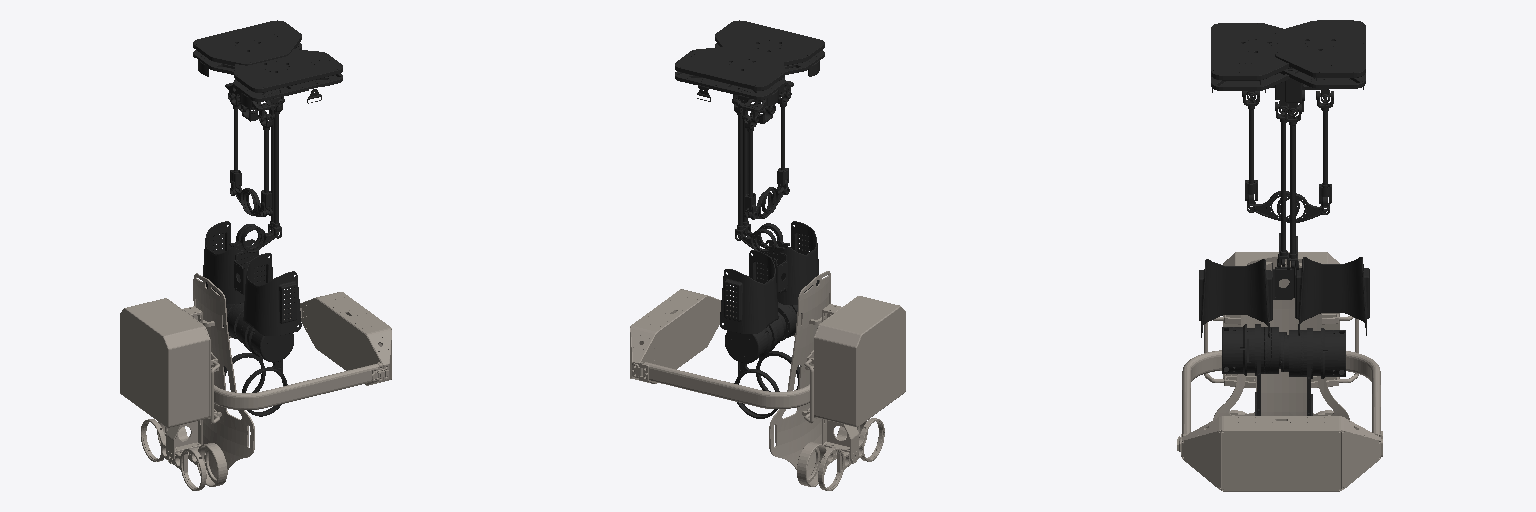
robot.urdf — lm:
<?xml version="1.0" encoding="utf-8"?>
<!-- This URDF was automatically created by SolidWorks to URDF Exporter! Originally created by [author] ([email redacted]) 
     Commit Version: 1.6.0-4-g7f85cfe  Build Version: 1.6.7995.38578
     For more information, please see http://wiki.ros.org/sw_urdf_exporter -->
<robot
  name="lm">
  <link
    name="base_link">
    <inertial>
      <origin
        xyz="-0.0847836403101362 0.016124068276873 1.17982651333941"
        rpy="0 0 0" />
      <mass
        value="8.8763411146804" />
      <inertia
        ixx="0.101488545979813"
        ixy="-0.00645799423628229"
        ixz="-0.000193628859141176"
        iyy="0.110557558643183"
        iyz="1.19373146939592E-07"
        izz="0.124437695624475" />
    </inertial>
    <visual>
      <origin
        xyz="0 0 0"
        rpy="0 0 0" />
      <geometry>
        <mesh
          filename="../meshes/base_link.STL" />
      </geometry>
      <material
        name="">
        <color
          rgba="0.647058823529412 0.619607843137255 0.588235294117647 1" />
      </material>
    </visual>
    <collision>
      <origin
        xyz="0 0 0"
        rpy="0 0 0" />
      <geometry>
        <mesh
          filename="../meshes/base_link.STL" />
      </geometry>
    </collision>
  </link>
  <link
    name="R1">
    <inertial>
      <origin
        xyz="-0.00590581604235663 -0.000378342657516517 -0.097190821686626"
        rpy="0 0 0" />
      <mass
        value="2.20759710695519" />
      <inertia
        ixx="0.00328368912648769"
        ixy="4.60300383770932E-06"
        ixz="-4.9557633533897E-05"
        iyy="0.00312841784055403"
        iyz="-3.11500954921368E-06"
        izz="0.00447804903564169" />
    </inertial>
    <visual>
      <origin
        xyz="0 0 0"
        rpy="0 0 0" />
      <geometry>
        <mesh
          filename="../meshes/R1.STL" />
      </geometry>
      <material
        name="">
        <color
          rgba="0.792156862745098 0.819607843137255 0.933333333333333 1" />
      </material>
    </visual>
    <collision>
      <origin
        xyz="0 0 0"
        rpy="0 0 0" />
      <geometry>
        <mesh
          filename="../meshes/R1.STL" />
      </geometry>
    </collision>
  </link>
  <joint
    name="r1"
    type="revolute">
    <origin
      xyz="-0.22474 -0.109 0.97992"
      rpy="0 1.5708 0" />
    <parent
      link="base_link" />
    <child
      link="R1" />
    <axis
      xyz="0 0 -1" />
    <limit
      lower="0"
      upper="0"
      effort="0"
      velocity="0" />
  </joint>
  <link
    name="R2">
    <inertial>
      <origin
        xyz="0.254569564032238 -0.139139525424893 -0.0687849629864661"
        rpy="0 0 0" />
      <mass
        value="3.19974792524518" />
      <inertia
        ixx="0.00480141067289401"
        ixy="0.000202464951920159"
        ixz="-1.3363010815288E-06"
        iyy="0.00724706562246883"
        iyz="-1.03783460509467E-05"
        izz="0.00754290013579256" />
    </inertial>
    <visual>
      <origin
        xyz="0 0 0"
        rpy="0 0 0" />
      <geometry>
        <mesh
          filename="../meshes/R2.STL" />
      </geometry>
      <material
        name="">
        <color
          rgba="0.203921568627451 0.203921568627451 0.203921568627451 1" />
      </material>
    </visual>
    <collision>
      <origin
        xyz="0 0 0"
        rpy="0 0 0" />
      <geometry>
        <mesh
          filename="../meshes/R2.STL" />
      </geometry>
    </collision>
  </link>
  <joint
    name="r2"
    type="revolute">
    <origin
      xyz="-0.074 0.004 -0.18726"
      rpy="3.1416 -1.5708 0" />
    <parent
      link="R1" />
    <child
      link="R2" />
    <axis
      xyz="0 0 -1" />
    <limit
      lower="0"
      upper="0"
      effort="0"
      velocity="0" />
  </joint>
  <link
    name="R3">
    <inertial>
      <origin
        xyz="-0.00428821051056383 -0.210045840770069 0.0243375068234463"
        rpy="0 0 0" />
      <mass
        value="1.55569553643649" />
      <inertia
        ixx="0.00470363819858225"
        ixy="5.6465625109145E-05"
        ixz="4.81096129758057E-05"
        iyy="0.00288796096558704"
        iyz="5.66863342194461E-06"
        izz="0.00529102208272787" />
    </inertial>
    <visual>
      <origin
        xyz="0 0 0"
        rpy="0 0 0" />
      <geometry>
        <mesh
          filename="../meshes/R3.STL" />
      </geometry>
      <material
        name="">
        <color
          rgba="0.203921568627451 0.203921568627451 0.203921568627451 1" />
      </material>
    </visual>
    <collision>
      <origin
        xyz="0 0 0"
        rpy="0 0 0" />
      <geometry>
        <mesh
          filename="../meshes/R3.STL" />
      </geometry>
    </collision>
  </link>
  <joint
    name="r3"
    type="revolute">
    <origin
      xyz="0.35806 -0.1057 -0.073552"
      rpy="1.5708 0 0" />
    <parent
      link="R2" />
    <child
      link="R3" />
    <axis
      xyz="0 0 1" />
    <limit
      lower="0"
      upper="0"
      effort="0"
      velocity="0" />
  </joint>
  <link
    name="R4">
    <inertial>
      <origin
        xyz="-0.00253089741190857 -0.327230467236538 0.043639443195158"
        rpy="0 0 0" />
      <mass
        value="2.71063429202877" />
      <inertia
        ixx="0.0203006815060119"
        ixy="-7.65976536605899E-05"
        ixz="3.6570950367569E-06"
        iyy="0.00327761584360402"
        iyz="0.000858028173816396"
        izz="0.0208829866242641" />
    </inertial>
    <visual>
      <origin
        xyz="0 0 0"
        rpy="0 0 0" />
      <geometry>
        <mesh
          filename="../meshes/R4.STL" />
      </geometry>
      <material
        name="">
        <color
          rgba="0.203921568627451 0.203921568627451 0.203921568627451 1" />
      </material>
    </visual>
    <collision>
      <origin
        xyz="0 0 0"
        rpy="0 0 0" />
      <geometry>
        <mesh
          filename="../meshes/R4.STL" />
      </geometry>
    </collision>
  </link>
  <joint
    name="r4"
    type="revolute">
    <origin
      xyz="-5.9136E-05 -0.18045 -0.0007"
      rpy="0 0 0" />
    <parent
      link="R3" />
    <child
      link="R4" />
    <axis
      xyz="0 0 1" />
    <limit
      lower="0"
      upper="0"
      effort="0"
      velocity="0" />
  </joint>
  <link
    name="R5">
    <inertial>
      <origin
        xyz="0.0404638830644892 -0.474230645005131 -0.0649480168515433"
        rpy="0 0 0" />
      <mass
        value="2.75166045965853" />
      <inertia
        ixx="0.0082226290270967"
        ixy="5.18405335157691E-05"
        ixz="0.000564288002547797"
        iyy="0.0184077002147554"
        iyz="-0.000106838645361955"
        izz="0.0129901003870485" />
    </inertial>
    <visual>
      <origin
        xyz="0 0 0"
        rpy="0 0 0" />
      <geometry>
        <mesh
          filename="../meshes/R5.STL" />
      </geometry>
      <material
        name="">
        <color
          rgba="0.203921568627451 0.203921568627451 0.203921568627451 1" />
      </material>
    </visual>
    <collision>
      <origin
        xyz="0 0 0"
        rpy="0 0 0" />
      <geometry>
        <mesh
          filename="../meshes/R5.STL" />
      </geometry>
    </collision>
  </link>
  <joint
    name="r5"
    type="revolute">
    <origin
      xyz="0 -0.259 0.0305"
      rpy="0 0 0" />
    <parent
      link="R4" />
    <child
      link="R5" />
    <axis
      xyz="0 0 1" />
    <limit
      lower="0"
      upper="0"
      effort="0"
      velocity="0" />
  </joint>
  <link
    name="R6">
    <inertial>
      <origin
        xyz="0.375757481556579 0.0588554601624295 0.0438139222015952"
        rpy="0 0 0" />
      <mass
        value="2.58090518554817" />
      <inertia
        ixx="0.0183265248457102"
        ixy="-0.000110484792807963"
        ixz="-5.18717858368646E-05"
        iyy="0.0121030694998444"
        iyz="-0.000563756385645892"
        izz="0.00747330629979318" />
    </inertial>
    <visual>
      <origin
        xyz="0 0 0"
        rpy="0 0 0" />
      <geometry>
        <mesh
          filename="../meshes/R6.STL" />
      </geometry>
      <material
        name="">
        <color
          rgba="0.203921568627451 0.203921568627451 0.203921568627451 1" />
      </material>
    </visual>
    <collision>
      <origin
        xyz="0 0 0"
        rpy="0 0 0" />
      <geometry>
        <mesh
          filename="../meshes/R6.STL" />
      </geometry>
    </collision>
  </link>
  <joint
    name="r6"
    type="revolute">
    <origin
      xyz="-0.0065 -0.37 0.0265"
      rpy="-1.5708 0 -1.5708" />
    <parent
      link="R4" />
    <child
      link="R6" />
    <axis
      xyz="0 0 -1" />
    <limit
      lower="0"
      upper="0"
      effort="0"
      velocity="0" />
  </joint>
  <link
    name="L1">
    <inertial>
      <origin
        xyz="0.00170500096238241 0.00382865112779629 -0.0951911325548635"
        rpy="0 0 0" />
      <mass
        value="2.17590643154051" />
      <inertia
        ixx="0.00305958752681306"
        ixy="5.51812772520468E-06"
        ixz="1.58394359645374E-08"
        iyy="0.00324420531255781"
        iyz="4.3000071606271E-05"
        izz="0.00453169312925124" />
    </inertial>
    <visual>
      <origin
        xyz="0 0 0"
        rpy="0 0 0" />
      <geometry>
        <mesh
          filename="../meshes/L1.STL" />
      </geometry>
      <material
        name="">
        <color
          rgba="0.792156862745098 0.819607843137255 0.933333333333333 1" />
      </material>
    </visual>
    <collision>
      <origin
        xyz="0 0 0"
        rpy="0 0 0" />
      <geometry>
        <mesh
          filename="../meshes/L1.STL" />
      </geometry>
    </collision>
  </link>
  <joint
    name="l1"
    type="revolute">
    <origin
      xyz="-0.22474 0.109 0.97992"
      rpy="1.5708 -0.0015844 1.5708" />
    <parent
      link="base_link" />
    <child
      link="L1" />
    <axis
      xyz="0 0 -1" />
    <limit
      lower="0"
      upper="0"
      effort="0"
      velocity="0" />
  </joint>
  <link
    name="L2">
    <inertial>
      <origin
        xyz="0.259193507971265 0.133299943743941 -0.0669963392806916"
        rpy="0 0 0" />
      <mass
        value="3.78127467125214" />
      <inertia
        ixx="0.00543046311466206"
        ixy="-0.000195237434217157"
        ixz="-1.35424363742605E-08"
        iyy="0.00846639037217728"
        iyz="7.2873819518859E-06"
        izz="0.00816753271384224" />
    </inertial>
    <visual>
      <origin
        xyz="0 0 0"
        rpy="0 0 0" />
      <geometry>
        <mesh
          filename="../meshes/L2.STL" />
      </geometry>
      <material
        name="">
        <color
          rgba="0.203921568627451 0.203921568627451 0.203921568627451 1" />
      </material>
    </visual>
    <collision>
      <origin
        xyz="0 0 0"
        rpy="0 0 0" />
      <geometry>
        <mesh
          filename="../meshes/L2.STL" />
      </geometry>
    </collision>
  </link>
  <joint
    name="l2"
    type="revolute">
    <origin
      xyz="0.0021212 0.076497 -0.18726"
      rpy="1.5692 -1.5708 0" />
    <parent
      link="L1" />
    <child
      link="L2" />
    <axis
      xyz="0 0 -1" />
    <limit
      lower="0"
      upper="0"
      effort="0"
      velocity="0" />
  </joint>
  <link
    name="L3">
    <inertial>
      <origin
        xyz="-0.00867651662877713 -0.209234579610408 -0.0200315054459647"
        rpy="0 0 0" />
      <mass
        value="1.56561550782437" />
      <inertia
        ixx="0.00471790185413728"
        ixy="-5.66930870132224E-06"
        ixz="-5.07696014416615E-05"
        iyy="0.00289352559826126"
        iyz="-1.44620309983072E-06"
        izz="0.00531080605275201" />
    </inertial>
    <visual>
      <origin
        xyz="0 0 0"
        rpy="0 0 0" />
      <geometry>
        <mesh
          filename="../meshes/L3.STL" />
      </geometry>
      <material
        name="">
        <color
          rgba="0.203921568627451 0.203921568627451 0.203921568627451 1" />
      </material>
    </visual>
    <collision>
      <origin
        xyz="0 0 0"
        rpy="0 0 0" />
      <geometry>
        <mesh
          filename="../meshes/L3.STL" />
      </geometry>
    </collision>
  </link>
  <joint
    name="l3"
    type="revolute">
    <origin
      xyz="0.358 0.104 -0.0765"
      rpy="1.5708 0 0" />
    <parent
      link="L2" />
    <child
      link="L3" />
    <axis
      xyz="0 0 -1" />
    <limit
      lower="0"
      upper="0"
      effort="0"
      velocity="0" />
  </joint>
  <link
    name="L4">
    <inertial>
      <origin
        xyz="-0.00543383778731923 -0.326825615987365 -0.0299481233235025"
        rpy="0 0 0" />
      <mass
        value="2.69750095123579" />
      <inertia
        ixx="0.0202801145052257"
        ixy="-1.22437624152543E-05"
        ixz="-2.14490644463678E-06"
        iyy="0.00327547819850043"
        iyz="-0.00085623170187763"
        izz="0.020874009282608" />
    </inertial>
    <visual>
      <origin
        xyz="0 0 0"
        rpy="0 0 0" />
      <geometry>
        <mesh
          filename="../meshes/L4.STL" />
      </geometry>
      <material
        name="">
        <color
          rgba="0.203921568627451 0.203921568627451 0.203921568627451 1" />
      </material>
    </visual>
    <collision>
      <origin
        xyz="0 0 0"
        rpy="0 0 0" />
      <geometry>
        <mesh
          filename="../meshes/L4.STL" />
      </geometry>
    </collision>
  </link>
  <joint
    name="l4"
    type="revolute">
    <origin
      xyz="0 -0.18 0.005"
      rpy="0 0 0" />
    <parent
      link="L3" />
    <child
      link="L4" />
    <axis
      xyz="0 0 -1" />
    <limit
      lower="0"
      upper="0"
      effort="0"
      velocity="0" />
  </joint>
  <link
    name="L5">
    <inertial>
      <origin
        xyz="0.0406136121748516 -0.477289661403757 0.084348979273286"
        rpy="0 0 0" />
      <mass
        value="2.63452067050539" />
      <inertia
        ixx="0.00817650922558589"
        ixy="5.18024365492065E-05"
        ixz="-0.000564390358997285"
        iyy="0.0183592201831297"
        iyz="0.000106791706618959"
        izz="0.0129444297415226" />
    </inertial>
    <visual>
      <origin
        xyz="0 0 0"
        rpy="0 0 0" />
      <geometry>
        <mesh
          filename="../meshes/L5.STL" />
      </geometry>
      <material
        name="">
        <color
          rgba="0.203921568627451 0.203921568627451 0.203921568627451 1" />
      </material>
    </visual>
    <collision>
      <origin
        xyz="0 0 0"
        rpy="0 0 0" />
      <geometry>
        <mesh
          filename="../meshes/L5.STL" />
      </geometry>
    </collision>
  </link>
  <joint
    name="l5"
    type="revolute">
    <origin
      xyz="0 -0.26 -0.0265"
      rpy="0 0 0" />
    <parent
      link="L4" />
    <child
      link="L5" />
    <axis
      xyz="0 0 -1" />
    <limit
      lower="0"
      upper="0"
      effort="0"
      velocity="0" />
  </joint>
  <link
    name="L6">
    <inertial>
      <origin
        xyz="0.373687147399562 -0.0580488190631737 0.0438426637034991"
        rpy="0 0 0" />
      <mass
        value="2.48766208956132" />
      <inertia
        ixx="0.018191324387593"
        ixy="0.000110326517363044"
        ixz="-5.18835323656088E-05"
        iyy="0.0120313369343374"
        iyz="0.000563808928071269"
        izz="0.00740087588418391" />
    </inertial>
    <visual>
      <origin
        xyz="0 0 0"
        rpy="0 0 0" />
      <geometry>
        <mesh
          filename="../meshes/L6.STL" />
      </geometry>
      <material
        name="">
        <color
          rgba="0.203921568627451 0.203921568627451 0.203921568627451 1" />
      </material>
    </visual>
    <collision>
      <origin
        xyz="0 0 0"
        rpy="0 0 0" />
      <geometry>
        <mesh
          filename="../meshes/L6.STL" />
      </geometry>
    </collision>
  </link>
  <joint
    name="l6"
    type="revolute">
    <origin
      xyz="-0.0092312 -0.36983 -0.0068141"
      rpy="-1.5708 0 -1.5708" />
    <parent
      link="L4" />
    <child
      link="L6" />
    <axis
      xyz="0 0 -1" />
    <limit
      lower="0"
      upper="0"
      effort="0"
      velocity="0" />
  </joint>
</robot>

--- Render facts (derived) ---
Views: 3 orthographic renders of the robot side by side, from view 1: azimuth 30°, elevation 25°; view 2: azimuth 150°, elevation 25°; view 3: azimuth 270°, elevation 25°.
Robot: lm — 13 links, 12 joints (12 revolute); root link base_link; default pose: all joints at 0.
Links seen in each view (by area): view 1: base_link, R3, L5, L3, R6, R5, L6; view 2: base_link, L5, L3, R3, R6, R5, L6; view 3: base_link, L3, R3, L5, R6, R5, L6.
Link boxes in pixels (bbox=[...]): base_link: bbox=[120, 273, 391, 490]; R3: bbox=[223, 253, 301, 392]; L5: bbox=[193, 20, 301, 252]; L3: bbox=[203, 221, 293, 416]; R6: bbox=[225, 49, 342, 214]; R5: bbox=[226, 61, 342, 247]; L6: bbox=[193, 34, 298, 216]; base_link: bbox=[630, 271, 905, 490]; L5: bbox=[675, 45, 793, 249]; L3: bbox=[720, 250, 801, 391]; R3: bbox=[725, 221, 818, 418]; R6: bbox=[715, 20, 824, 219]; R5: bbox=[715, 34, 824, 254]; L6: bbox=[677, 59, 793, 213]; base_link: bbox=[1177, 252, 1382, 491]; L3: bbox=[1222, 257, 1369, 415]; R3: bbox=[1199, 259, 1345, 415]; L5: bbox=[1273, 20, 1365, 267]; R6: bbox=[1211, 32, 1333, 222]; R5: bbox=[1211, 23, 1328, 269]; L6: bbox=[1242, 67, 1363, 220].
Bounding box of the posed robot: 0.7075 × 0.477 × 1.23 m (x, y, z).
Meshes: 13 distinct files referenced, 7 mesh visuals loaded (7 binary STL); not drawn: 6 (reference not matched to a file when rendering).
